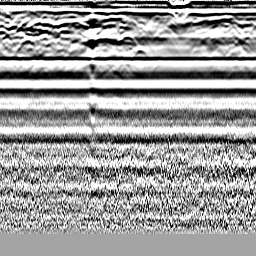cavity: (117, 32, 136, 50)
